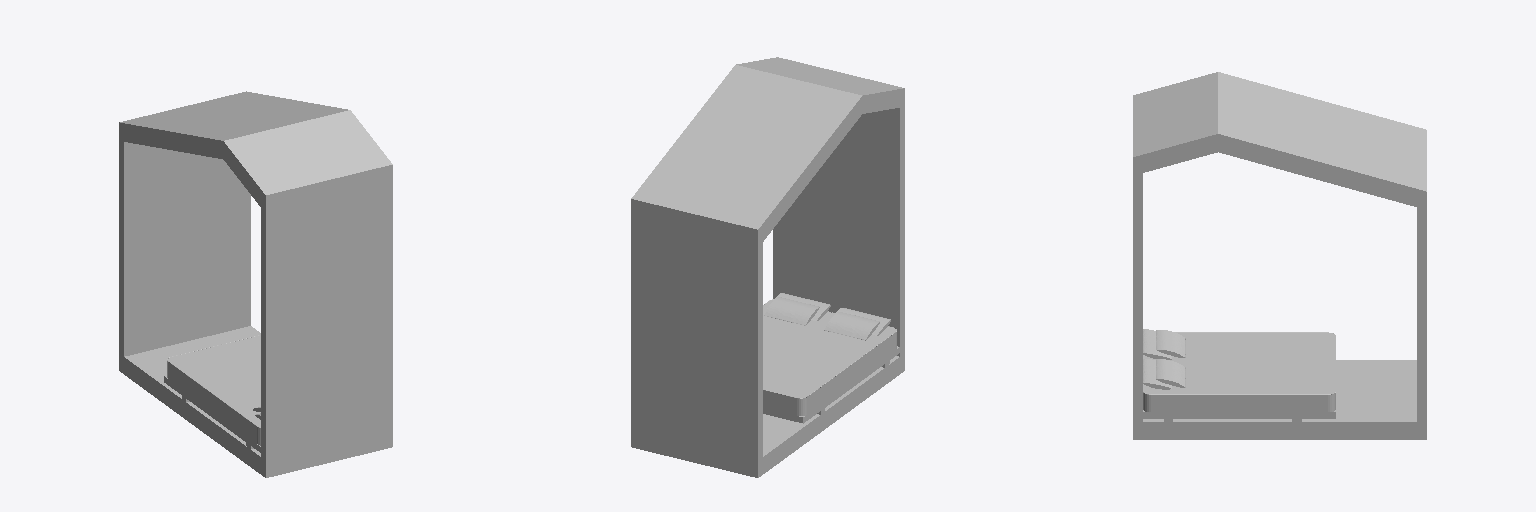
Rendered from 3D_1.1_SIM.obj.
3 views of the same model, side by side, from view 1: azimuth 30°, elevation 25°; view 2: azimuth 150°, elevation 25°; view 3: azimuth 270°, elevation 25° (orthographic).
Visible parts, largest first — view 1: 3D_1.1_SIM; view 2: 3D_1.1_SIM; view 3: 3D_1.1_SIM.
Part boxes in pixels (x1,y1,x2,y2): 3D_1.1_SIM: (119,91,392,477); 3D_1.1_SIM: (631,57,904,477); 3D_1.1_SIM: (1133,72,1426,439).
Size of the model in its own units: 1.5 by 3.46 by 3.